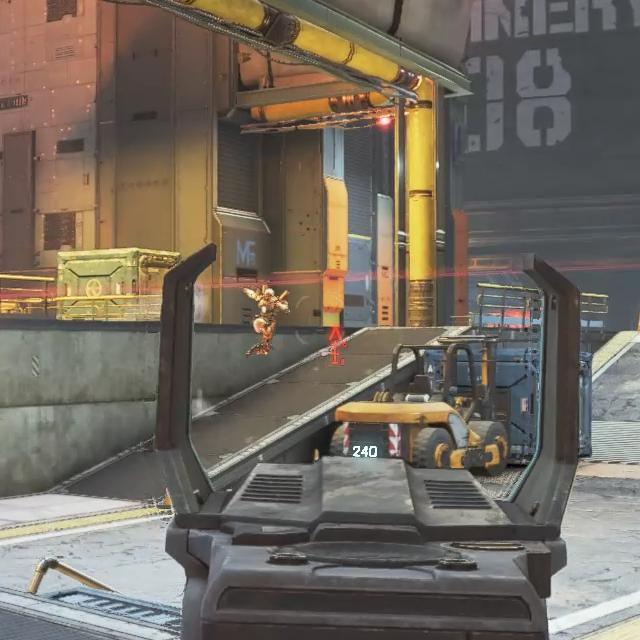avatar: (242, 283, 292, 358)
